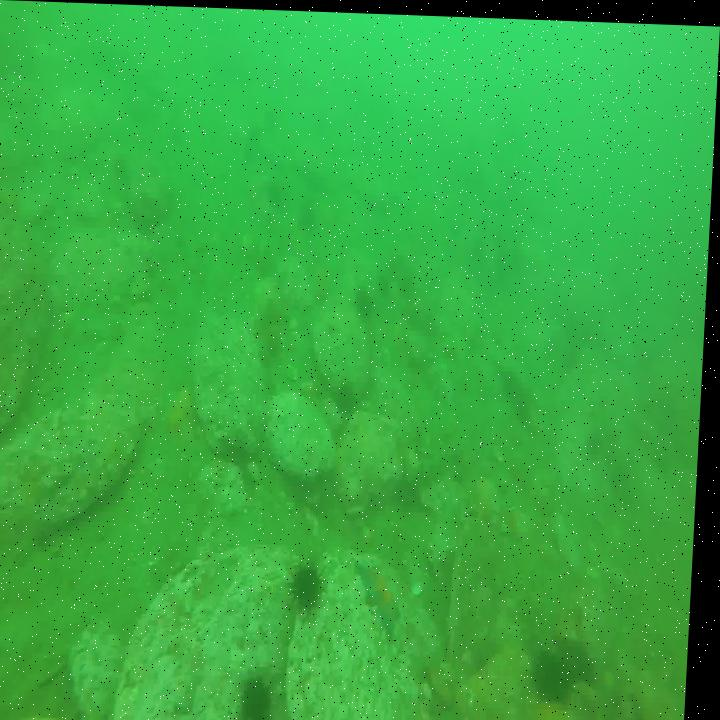echinus: (566, 630, 608, 680), (543, 641, 575, 700), (294, 561, 332, 610), (245, 678, 288, 720)
starfish: (357, 550, 410, 636)
